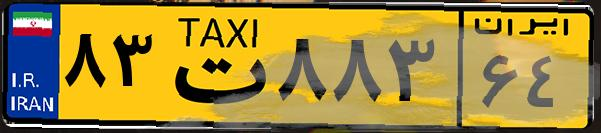3: (385, 28, 445, 110), (110, 28, 158, 98)
4: (525, 38, 570, 115)
6: (475, 38, 525, 113)
8: (270, 28, 330, 110), (330, 28, 385, 110), (57, 26, 110, 100)
ت: (158, 12, 270, 120)
